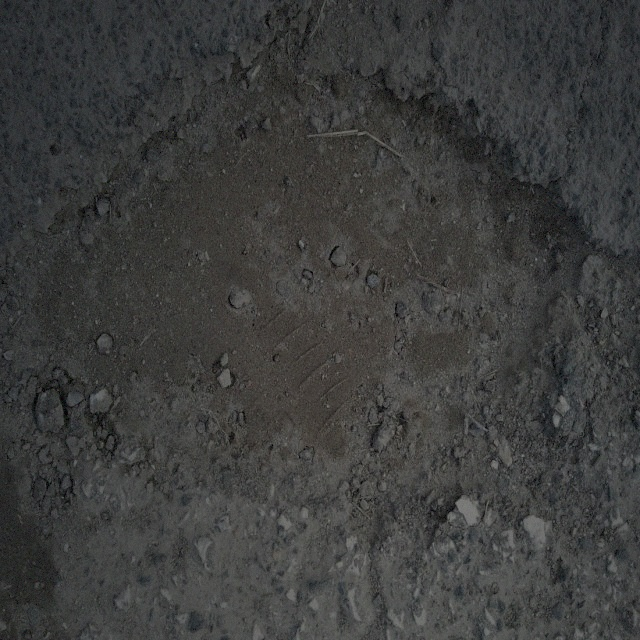pothole: (58, 39, 595, 548)
